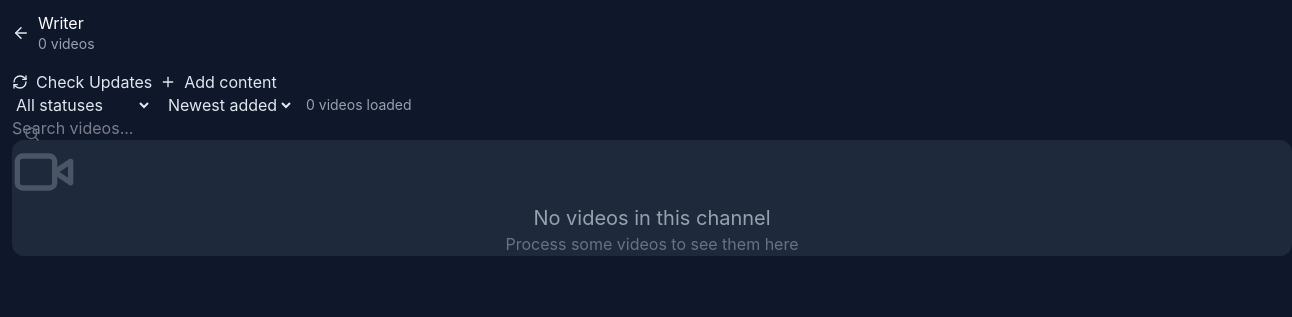
Test case: offers twitter source checks with the platform and channel scope and truthful failure details
Click the button with aria-label "Check source updates": coordinates (82, 82) x1=12 y1=70 x2=152 y2=94
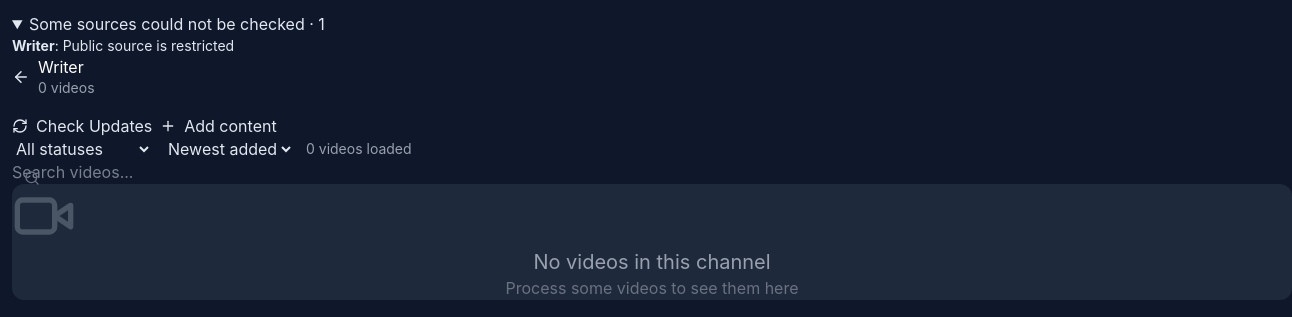
expect the text "Public source is restricted" is shown: met, box x1=63 y1=37 x2=234 y2=54
